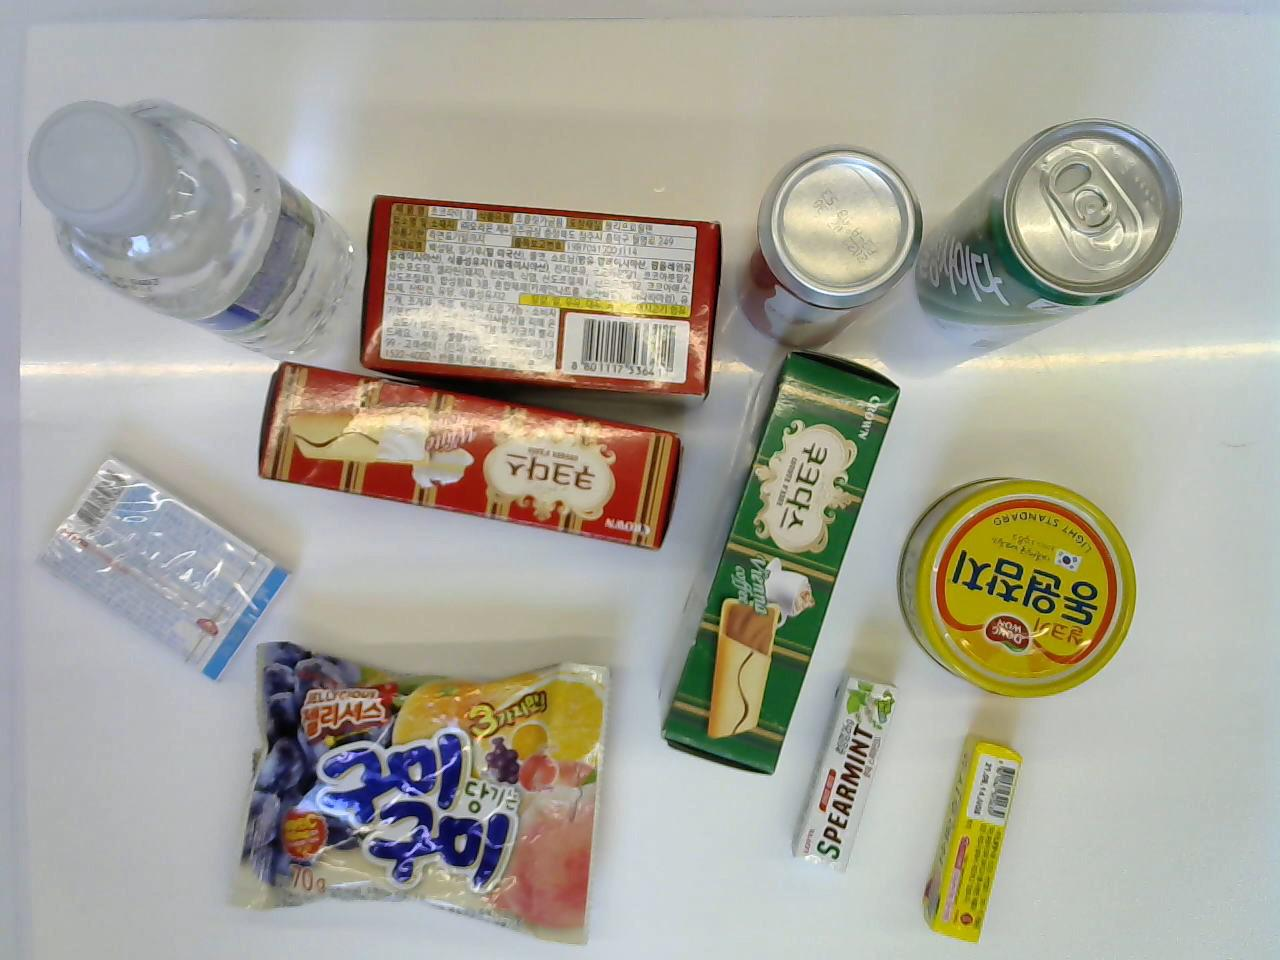ID_gum: (35, 450, 295, 690)
chocopie: (357, 190, 725, 424)
cidar: (913, 112, 1181, 373)
coke: (735, 141, 923, 359)
couque_coffee: (647, 343, 908, 777)
couque_white: (250, 351, 683, 555)
gumi_gumi: (216, 626, 621, 948)
juicyfresh: (916, 718, 1041, 948)
samdasu: (26, 84, 362, 358)
spearmint: (775, 662, 907, 873)
tuna: (892, 467, 1142, 709)
